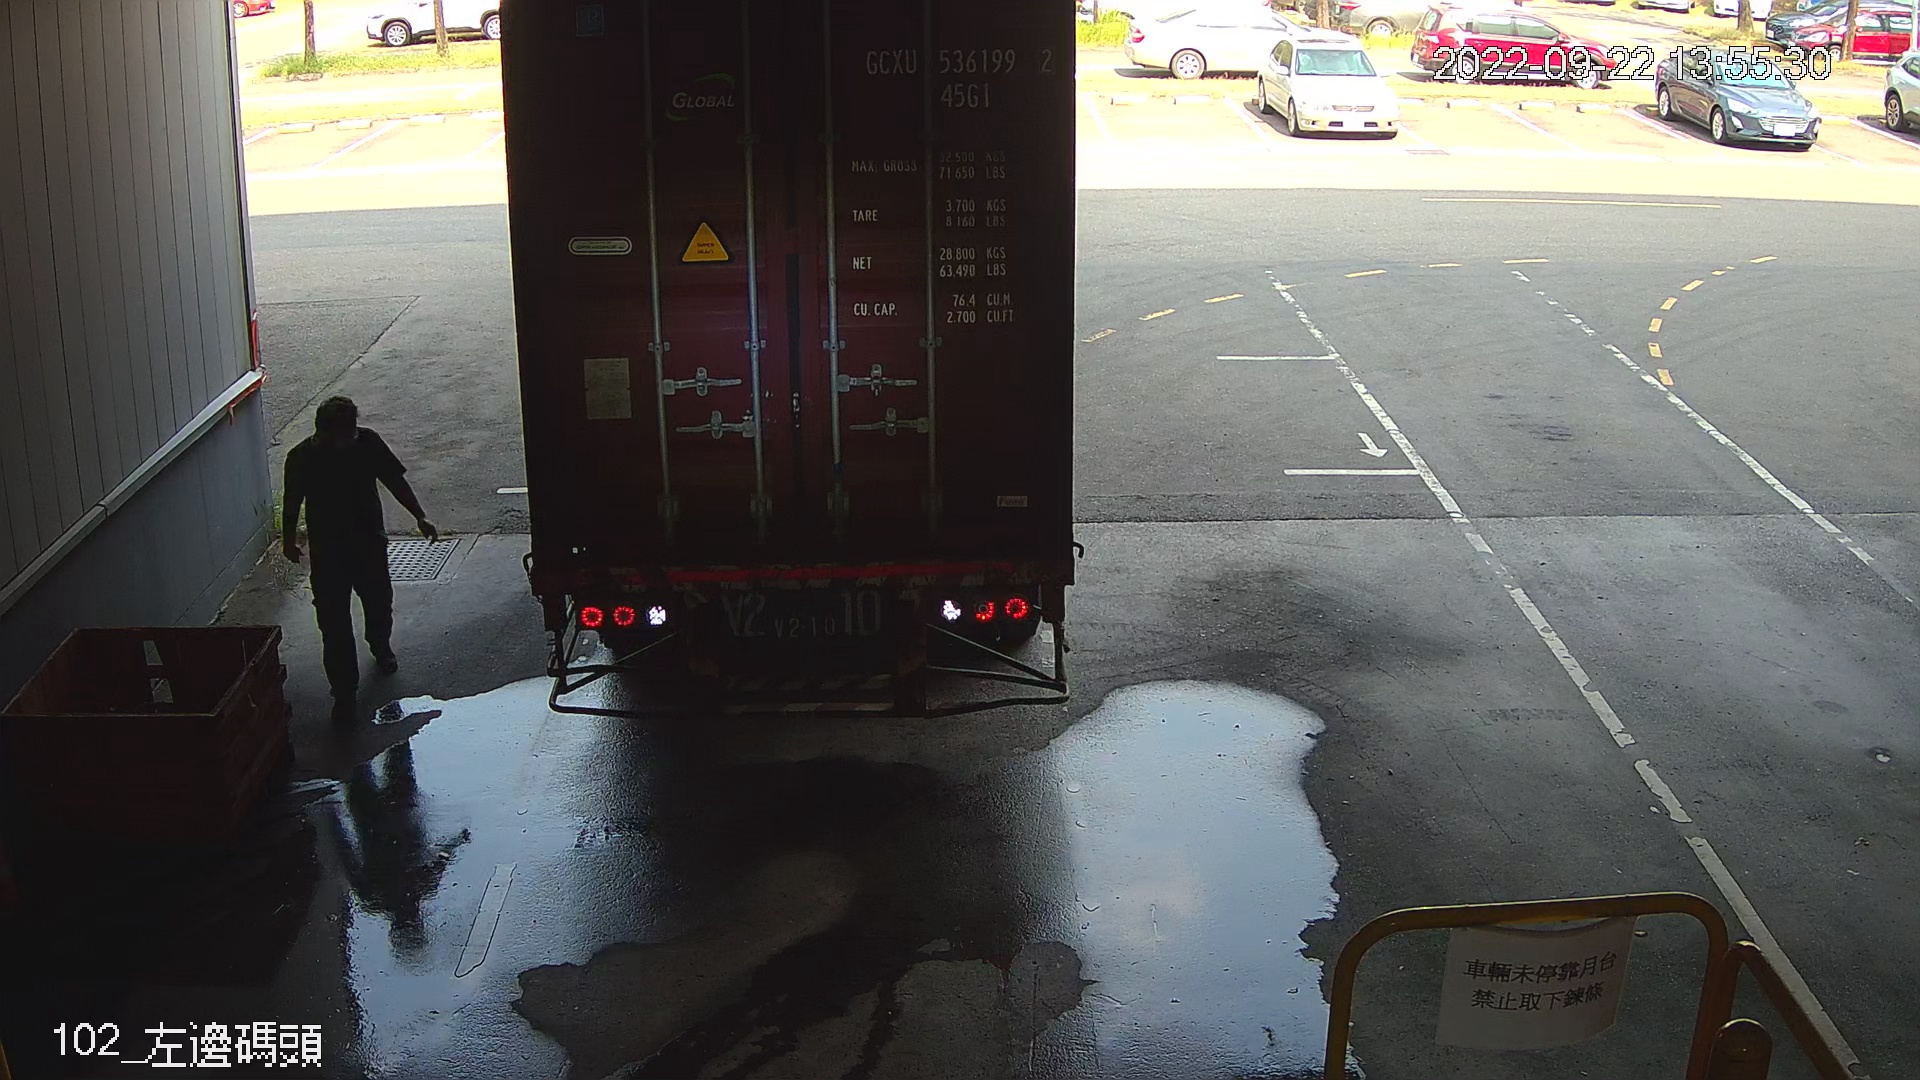container: (855, 36, 1062, 117)
